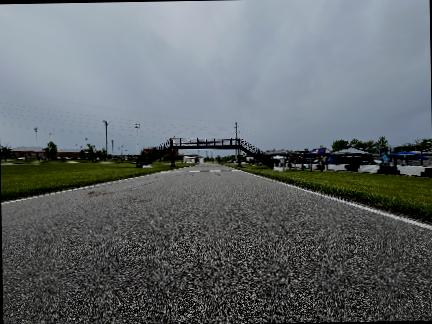Grass: (240, 165, 431, 220), (1, 162, 185, 200)
Lane: (1, 165, 431, 323)
